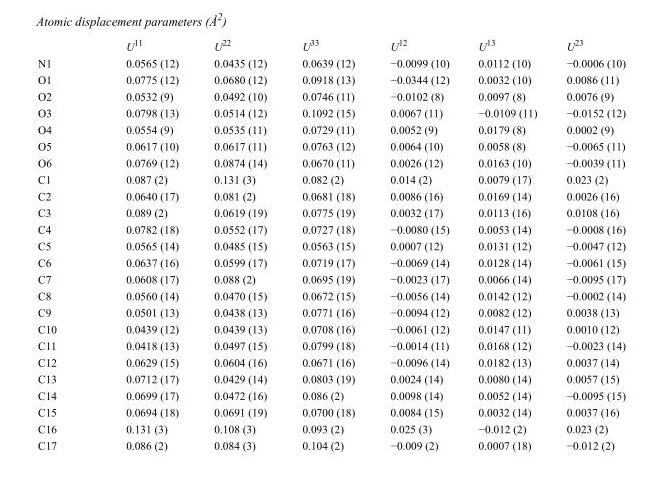table: (37, 36, 624, 451)
table column: (90, 36, 195, 451), (371, 36, 463, 451), (195, 36, 283, 451), (283, 36, 371, 451), (463, 36, 551, 451), (551, 36, 624, 451), (37, 36, 90, 451)
table column header: (37, 36, 624, 54)
table row: (37, 36, 624, 54), (37, 70, 624, 87), (37, 87, 624, 104), (37, 120, 624, 137), (37, 137, 624, 154), (37, 170, 624, 187), (37, 203, 624, 220), (37, 220, 624, 237), (37, 253, 624, 270), (37, 270, 624, 287), (37, 303, 624, 320), (37, 336, 624, 353), (37, 353, 624, 370), (37, 386, 624, 403), (37, 403, 624, 420), (37, 54, 624, 70), (37, 104, 624, 120), (37, 154, 624, 170), (37, 187, 624, 203), (37, 237, 624, 253), (37, 287, 624, 303), (37, 320, 624, 336), (37, 370, 624, 386), (37, 420, 624, 436), (37, 436, 624, 451)
